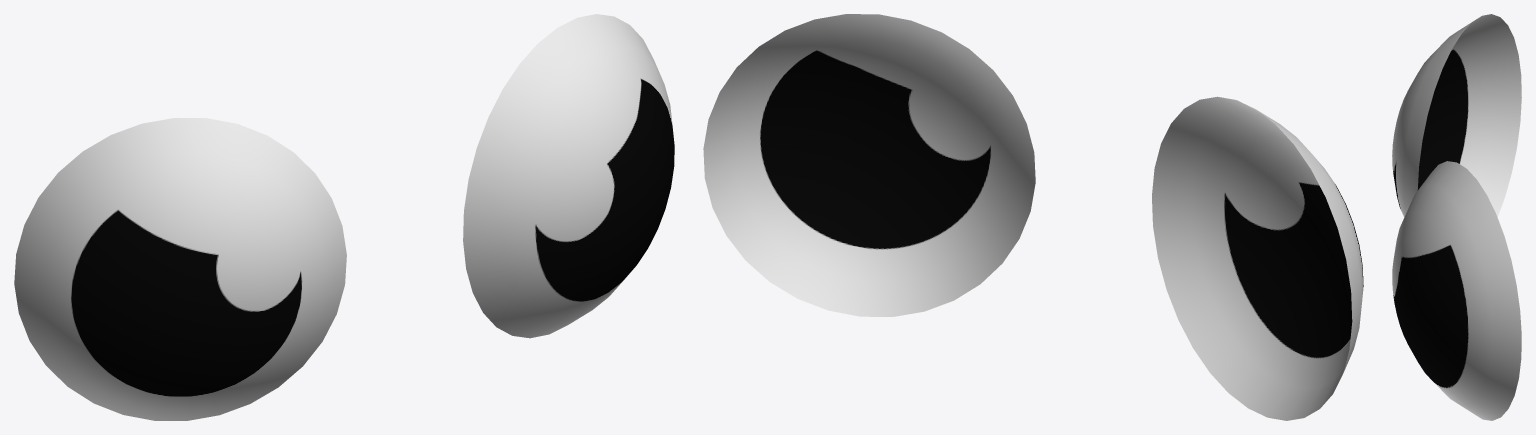
The model's file is Eyes_5.fbx.
3 renders of one model, left to right at view 1: azimuth 30°, elevation 25°; view 2: azimuth 150°, elevation 25°; view 3: azimuth 270°, elevation 25°, orthographic. The views are drawn at different scales.
Parts seen in each view (by area): view 1: Eyes_5; view 2: Eyes_5; view 3: Eyes_5.
Part boxes in pixels (left/top/right/bottom): Eyes_5: left=14, top=14, right=674, bottom=420; Eyes_5: left=703, top=14, right=1363, bottom=420; Eyes_5: left=1392, top=14, right=1521, bottom=420.
Bounding box in the file's own units: 34.83 × 15.57 × 7.66.
